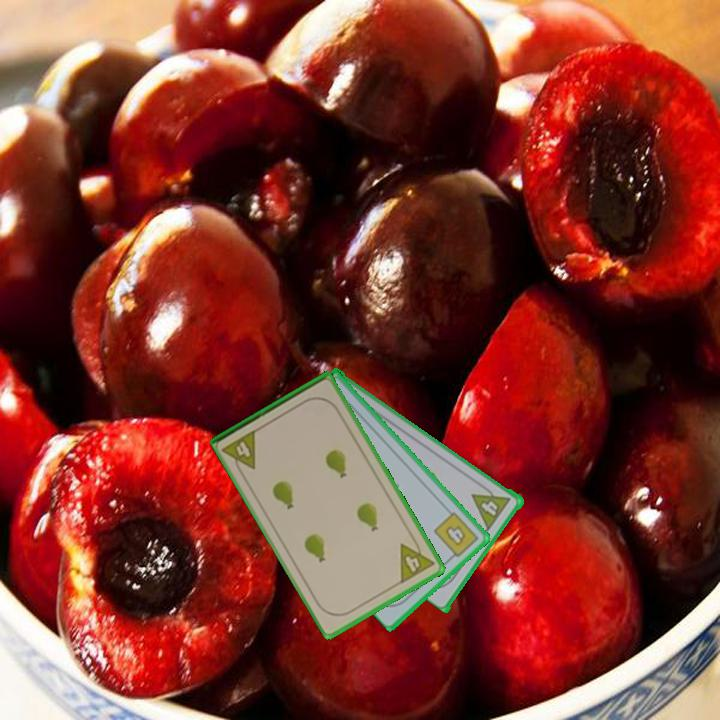4b: (430, 508, 482, 563)
4p: (469, 480, 514, 532), (396, 533, 437, 586), (219, 426, 260, 478)
